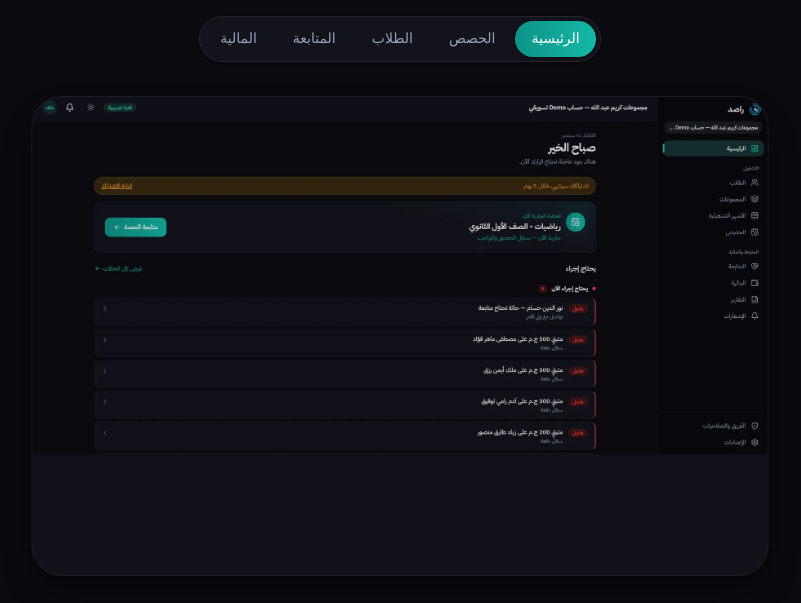
Test: ProductShowcase › desktop: clicking a tab changes the active slide
The image size is (801, 603).
Click the tab "الحصص": click(472, 39) [433,21,512,57]
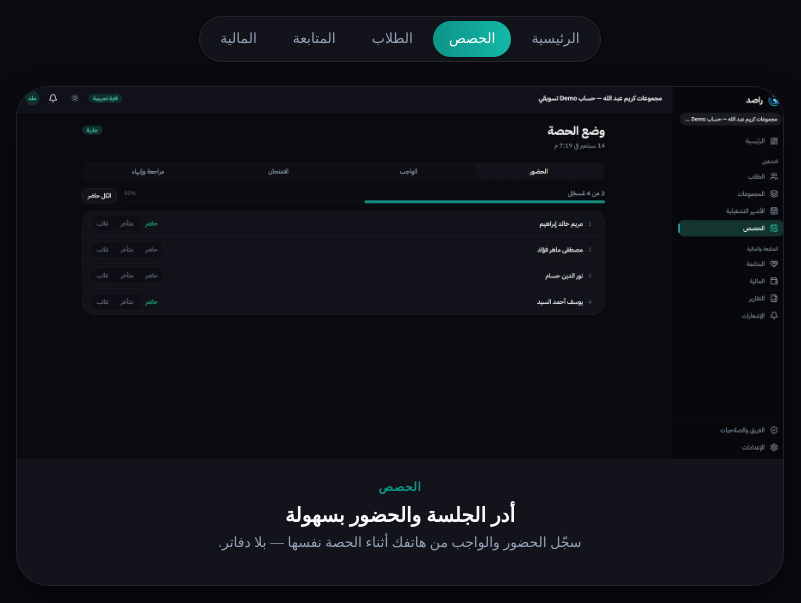
Expected: the heading "أدر الجلسة والحضور بسهولة" is shown, [285,504,515,526]
